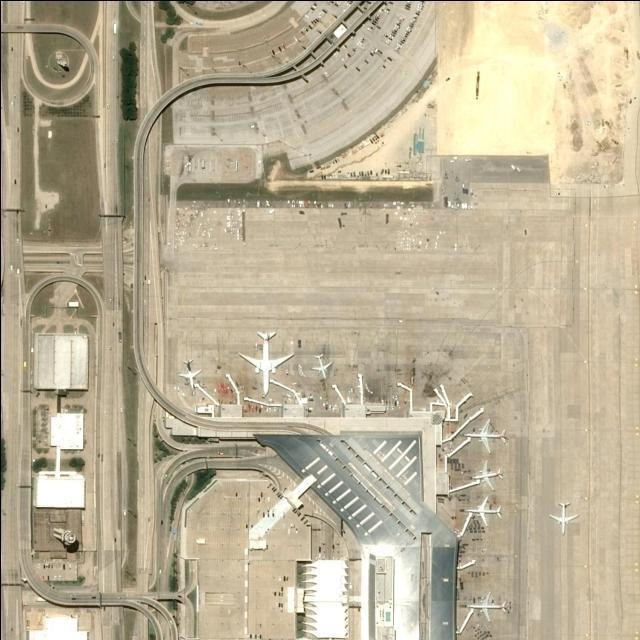Aircraft: (240, 330, 296, 397), (467, 420, 510, 454), (465, 592, 507, 622), (464, 498, 503, 529), (472, 462, 505, 489), (551, 502, 579, 533), (309, 350, 335, 380), (175, 359, 201, 388)
